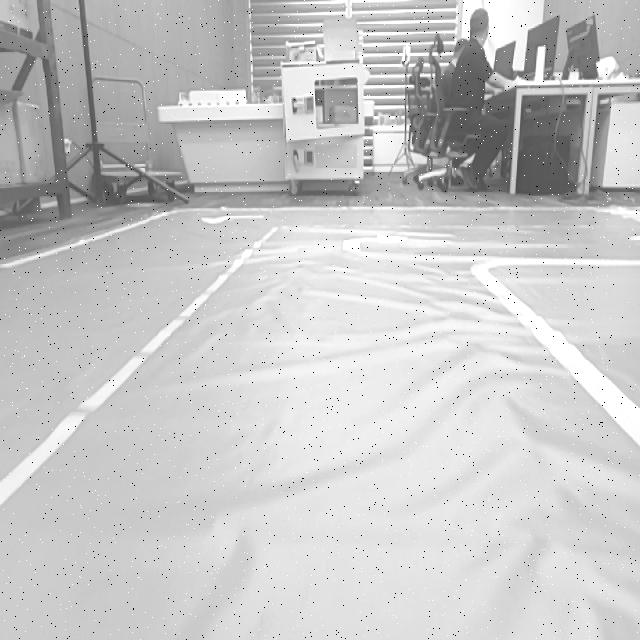left_lane: (0, 228, 276, 510)
right_lane: (473, 272, 640, 448)
